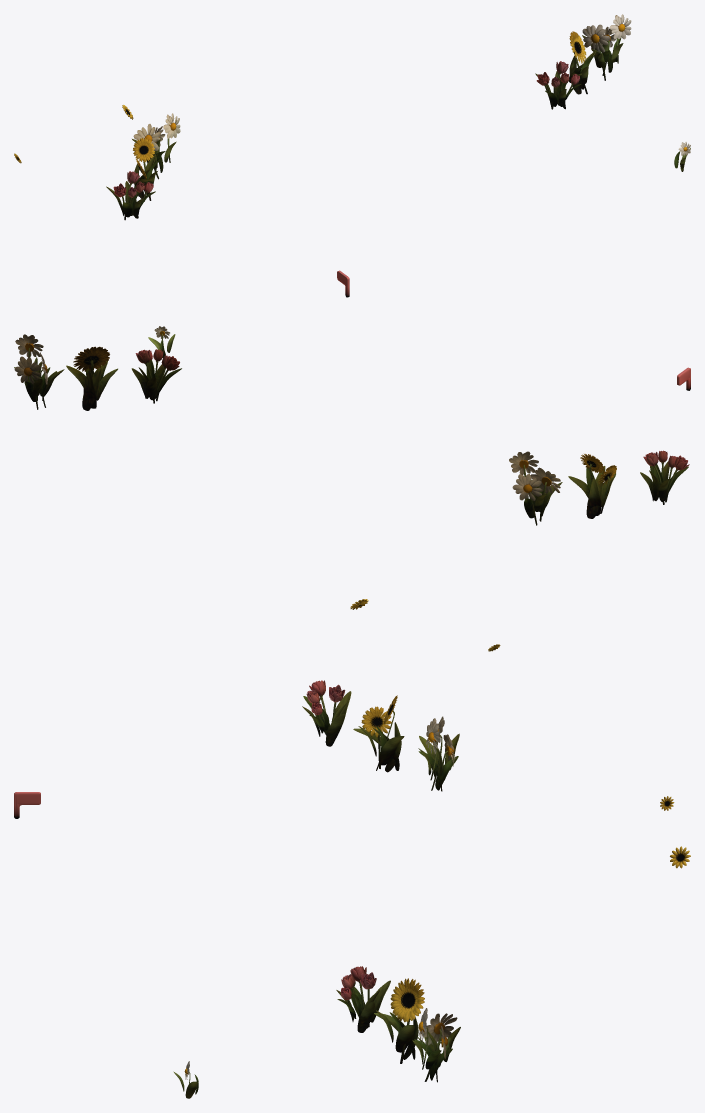
Rendered from plants_pots.glb.
3 views of the same model, one above another, from view 1: azimuth 30°, elevation 25°; view 2: azimuth 150°, elevation 25°; view 3: azimuth 270°, elevation 25° (orthographic). The views are drawn at different scales.
Parts seen in each view (by area): view 1: V | 花草 · 盆栽和高处; view 2: V | 花草 · 盆栽和高处; view 3: V | 花草 · 盆栽和高处.
Part boxes in pixels (<box>): V | 花草 · 盆栽和高处: <box>14,14,690,297</box>; V | 花草 · 盆栽和高处: <box>14,326,690,651</box>; V | 花草 · 盆栽和高处: <box>14,680,690,1098</box>.
Bounding box in the file's own units: 14.95 × 2.54 × 12.13.
